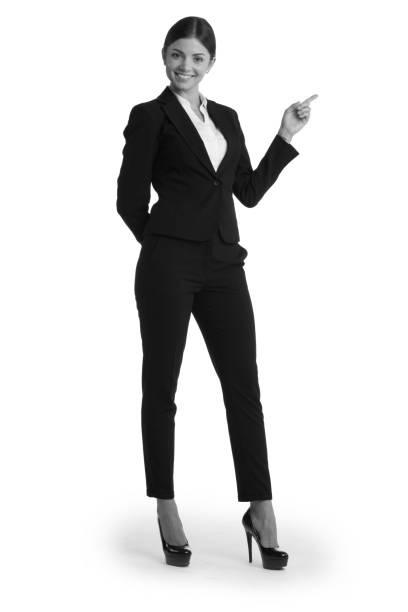pointing_gesture: (278, 92, 331, 139)
